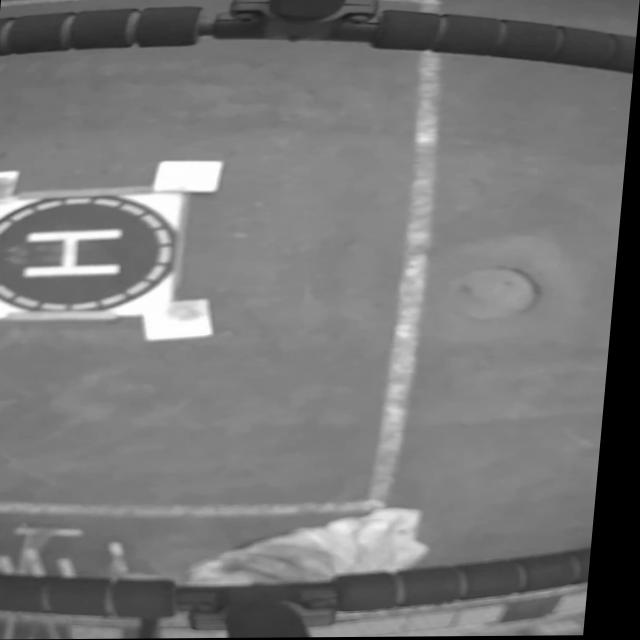Helipad: (26, 229, 128, 277)
